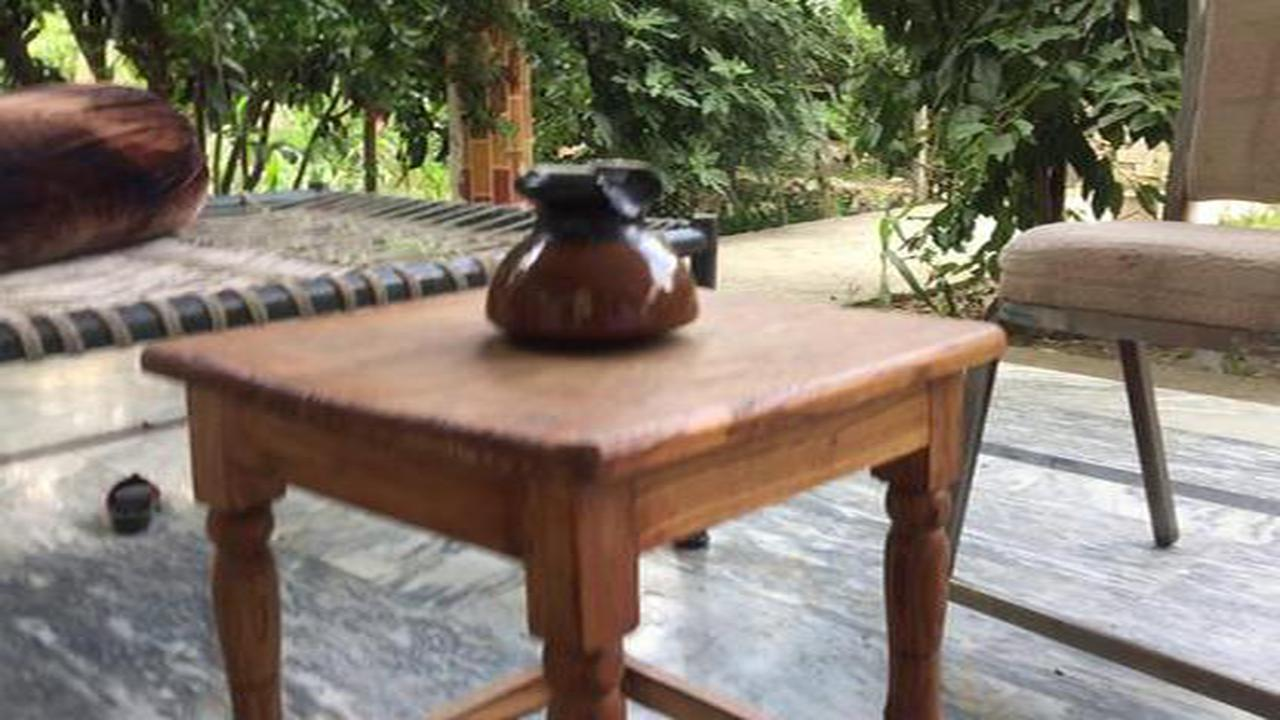insulator_pin: (468, 146, 717, 361)
